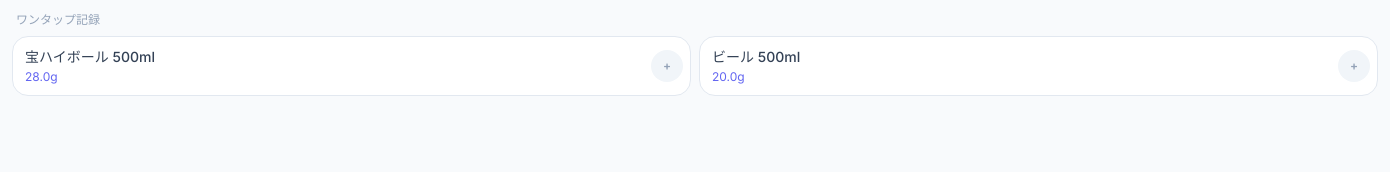
Test: QuickAddChips › 保存に成功すると本数が1本に戻る
This screenshot has width=1390, height=172.
Click the button named "宝ハイボールの本数を増やす": point(667, 66) x1=651 y1=50 x2=683 y2=82
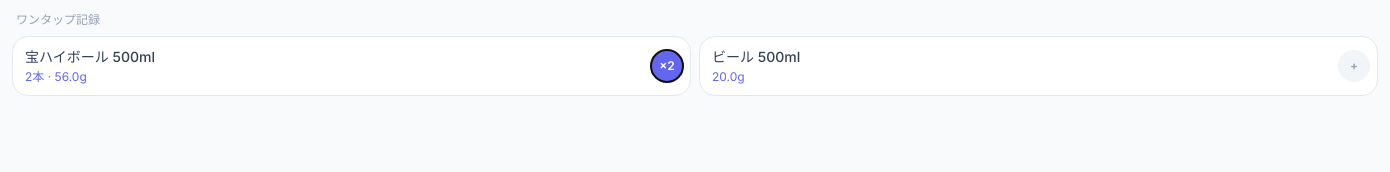
Click the button "宝ハイボール 500ml 2本 · 56.0g": point(67, 56) x1=12 y1=36 x2=691 y2=96
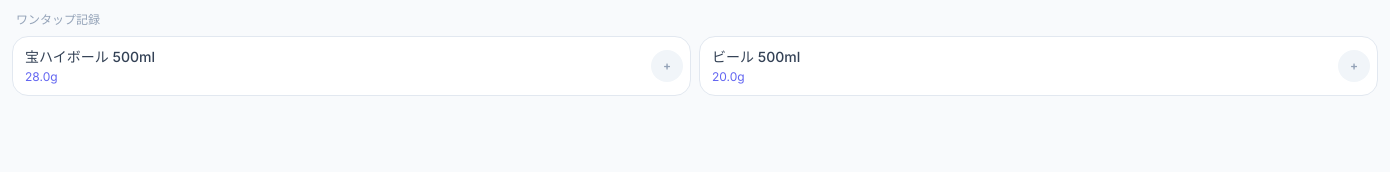
Check: the text "28.0g" is shown, box x1=25 y1=69 x2=58 y2=84
